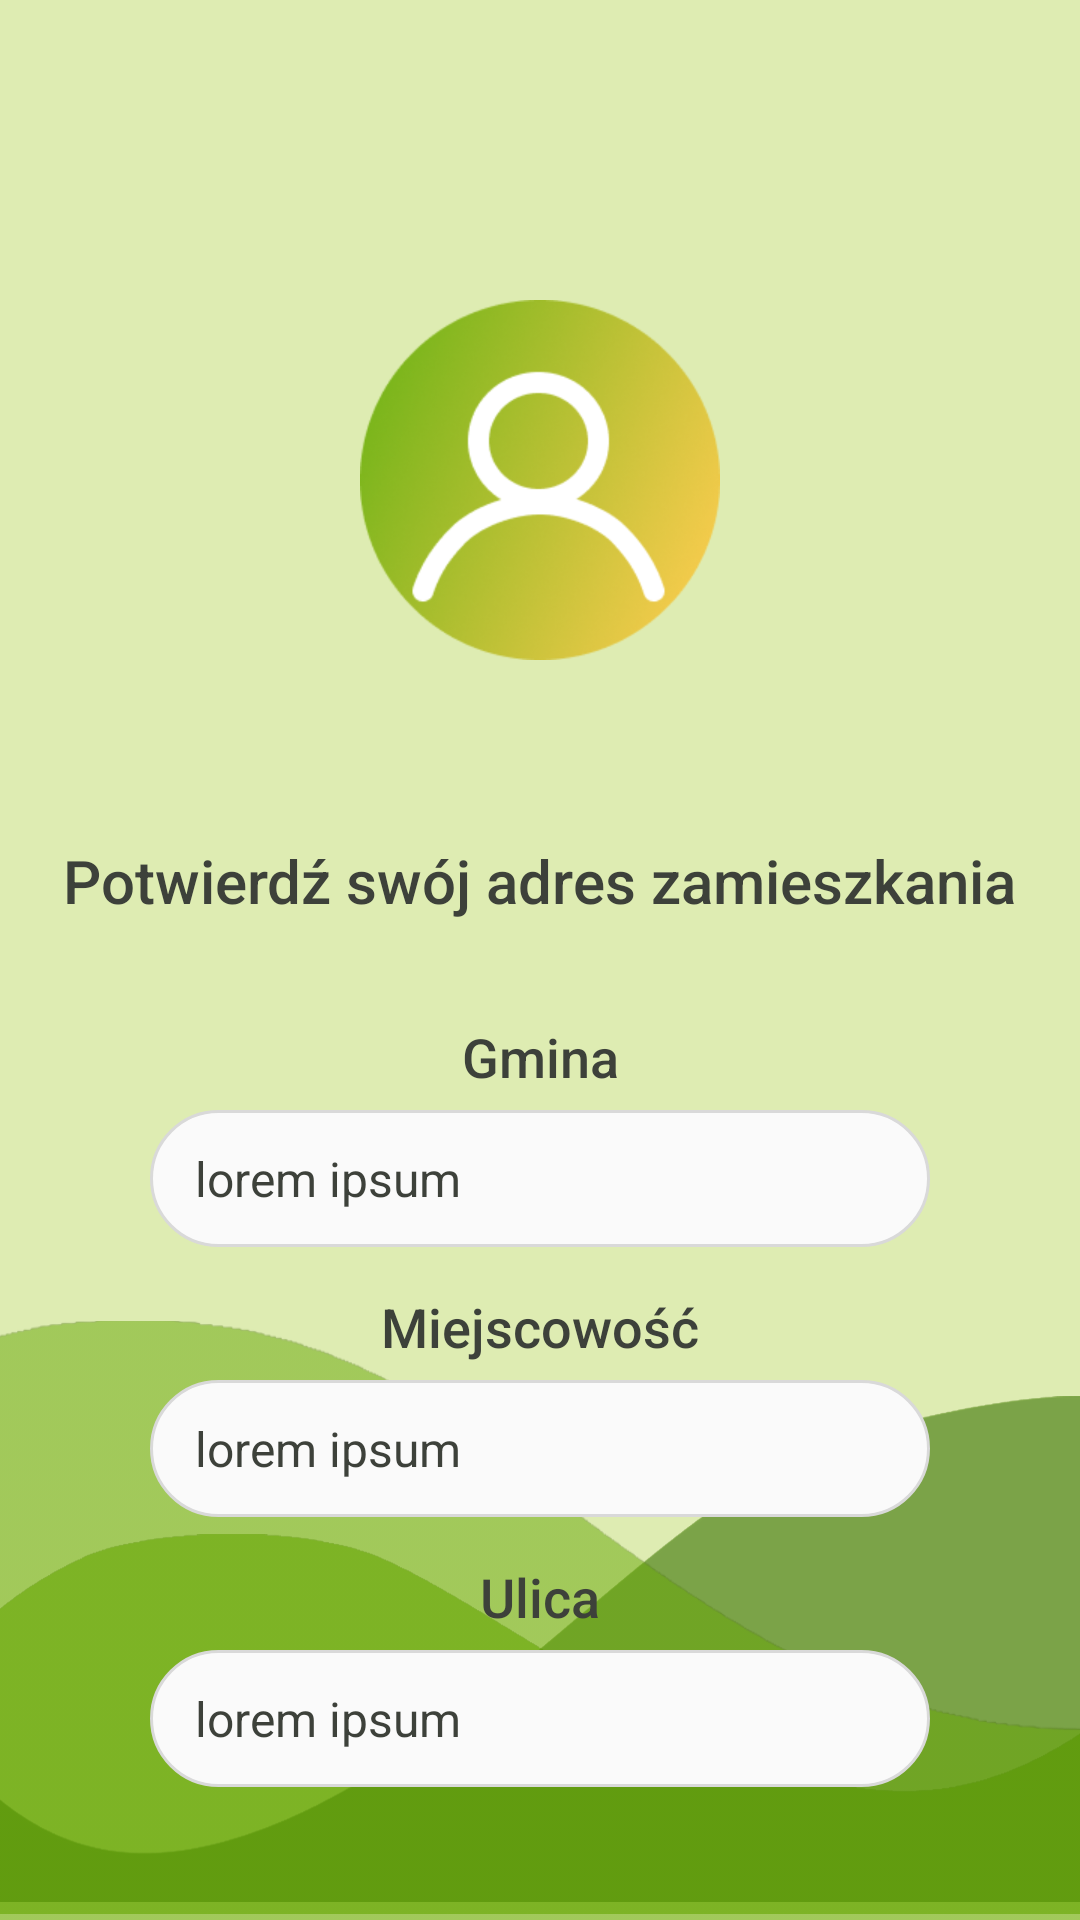

Icons on this 1080 x 1920 Android screen, each with its box as [left=x1, top=y1, right=x2, bottom=y2]:
user: [left=360, top=300, right=720, bottom=660]
